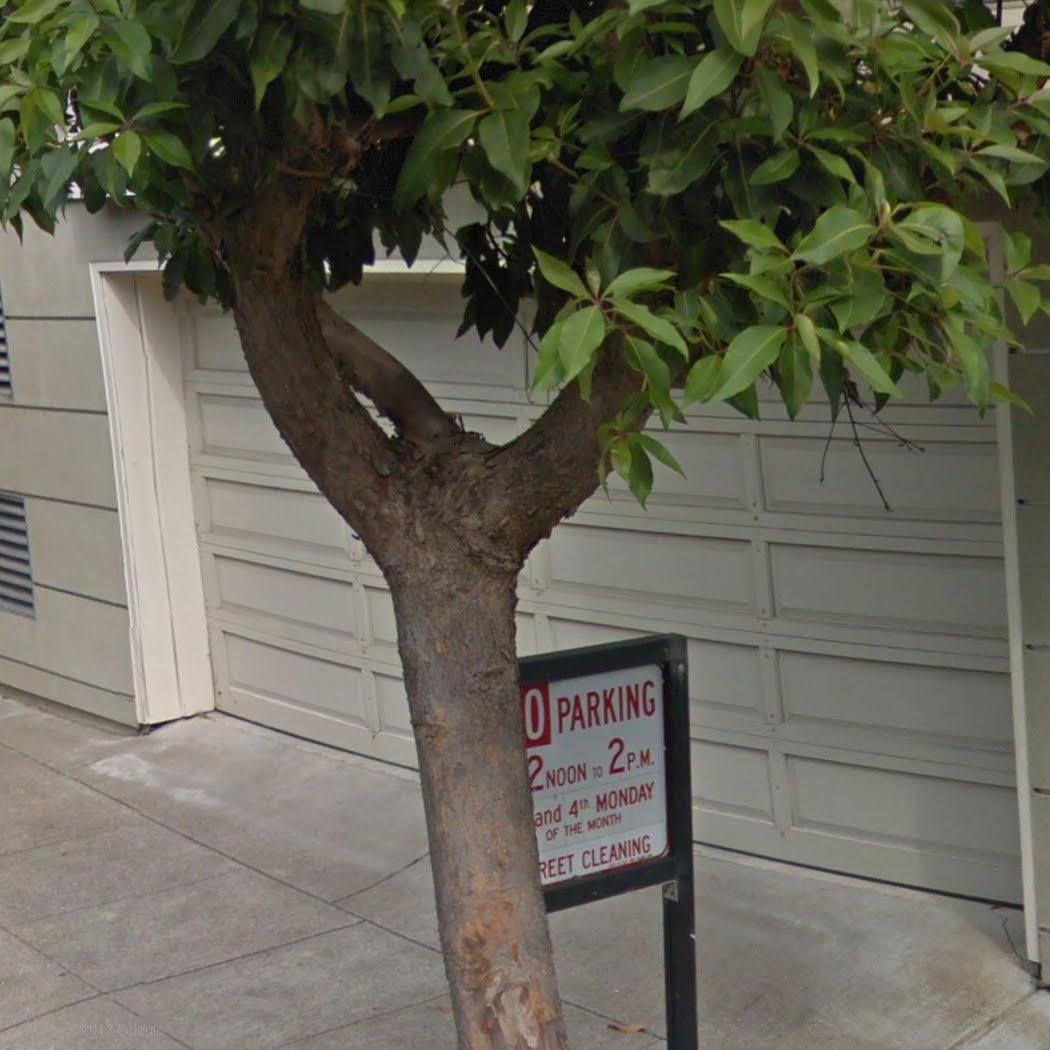No Parking: (516, 650, 675, 888)
